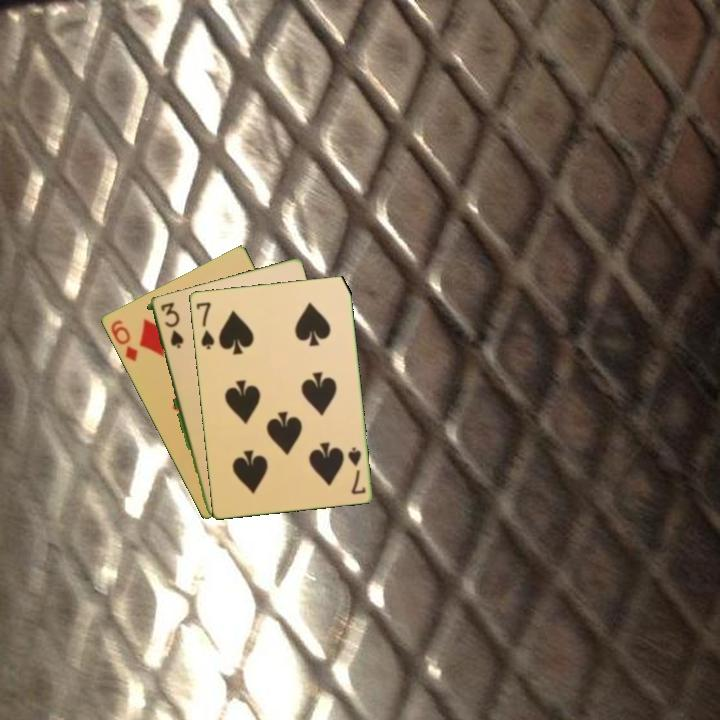3s: (156, 299, 184, 351)
6d: (107, 316, 140, 365)
7s: (192, 298, 217, 352), (344, 444, 368, 497)
